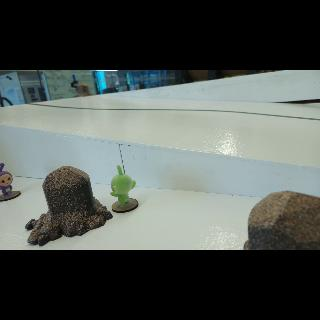teletubby: (110, 165, 136, 207), (0, 163, 12, 195)
